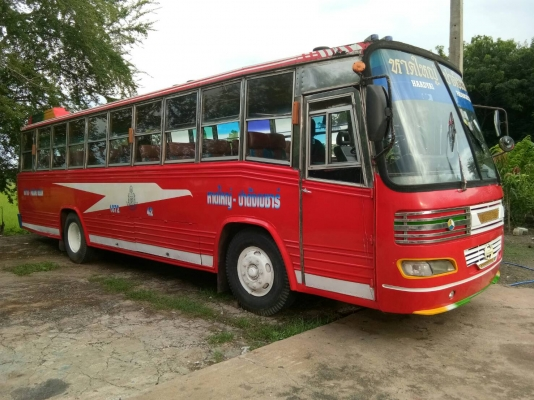bus: (17, 38, 506, 315)
